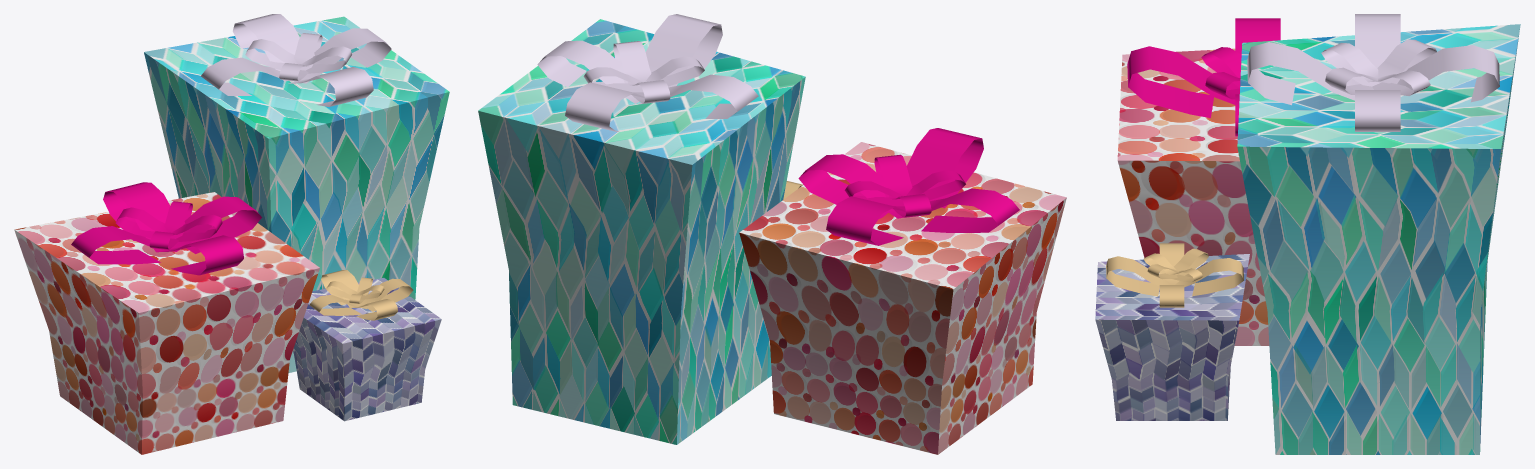
The model's file is giftbox.fbx.
3 renders of one model, left to right at view 1: azimuth 30°, elevation 25°; view 2: azimuth 150°, elevation 25°; view 3: azimuth 270°, elevation 25°, orthographic. The views are drawn at different scales.
Parts seen in each view (by area): view 1: pCube1, pCube2, pCube3, pPlane1, pPlane2, pPlane6, pPlane5, pPlane4, pPlane7, pPlane9, pPlane10, pPlane3 (+2 smaller); view 2: pCube2, pCube1, pPlane2, pPlane1, pPlane6, pPlane5, pPlane7, pPlane4, pPlane8, pPlane3; view 3: pCube2, pCube1, pCube3, pPlane6, pPlane2, pPlane5, pPlane10, pPlane8, pPlane7, pPlane1, pPlane9, pPlane3 (+3 smaller).
Part boxes in pixels (box(x1,y1,x2,y2)): pCube1: box(14, 192, 319, 454); pCube2: box(144, 16, 449, 373); pCube3: box(293, 278, 441, 421); pPlane1: box(71, 196, 261, 264); pPlane2: box(103, 182, 243, 275); pPlane6: box(232, 14, 373, 106); pPlane5: box(201, 28, 391, 95); pPlane4: box(115, 207, 222, 241); pPlane7: box(245, 39, 351, 73); pPlane9: box(309, 278, 413, 315); pPlane10: box(321, 270, 397, 320); pPlane3: box(149, 201, 192, 249); pCube2: box(478, 19, 805, 444); pCube1: box(739, 142, 1066, 454); pPlane2: box(826, 128, 983, 245); pPlane1: box(798, 154, 1019, 232); pPlane6: box(565, 14, 722, 131); pPlane5: box(537, 40, 758, 118); pPlane7: box(613, 41, 670, 103); pPlane4: box(874, 154, 931, 217); pPlane8: box(583, 56, 704, 92); pPlane3: box(844, 170, 965, 206); pCube2: box(1237, 24, 1520, 454); pCube1: box(1117, 48, 1269, 345); pCube3: box(1095, 254, 1249, 420); pPlane6: box(1247, 42, 1499, 105); pPlane2: box(1127, 46, 1238, 117); pPlane5: box(1355, 14, 1400, 131); pPlane10: box(1106, 256, 1243, 296); pPlane8: box(1321, 43, 1430, 95); pPlane7: box(1325, 39, 1436, 94); pPlane1: box(1235, 18, 1280, 136); pPlane9: box(1159, 243, 1184, 307); pPlane3: box(1201, 47, 1241, 87).
Bounding box in the file's own units: 2.61 × 1.94 × 2.08.
Materials: 6 (3 with a texture image).
